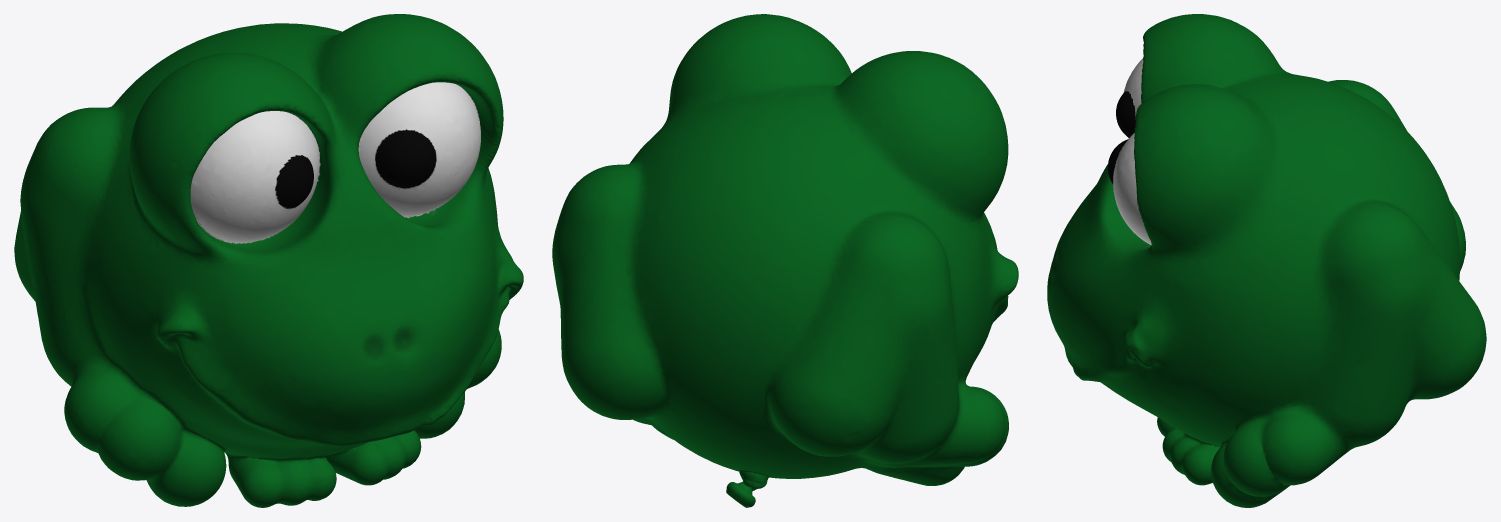
File: smeerws_2018-03-04_12-55-20frog.fbx
3 views of the same model, side by side, from view 1: azimuth 30°, elevation 25°; view 2: azimuth 150°, elevation 25°; view 3: azimuth 270°, elevation 25° (orthographic). The views are drawn at different scales.
Parts seen in each view (by area): view 1: Layer_1; view 2: Layer_1; view 3: Layer_1.
Boxes of the visible parts, x1,y1,x2,y2 form: Layer_1: [14, 14, 523, 507]; Layer_1: [552, 14, 1018, 507]; Layer_1: [1047, 14, 1486, 507].
Size of the model in its own units: 0.6912 by 0.6927 by 0.6782.
